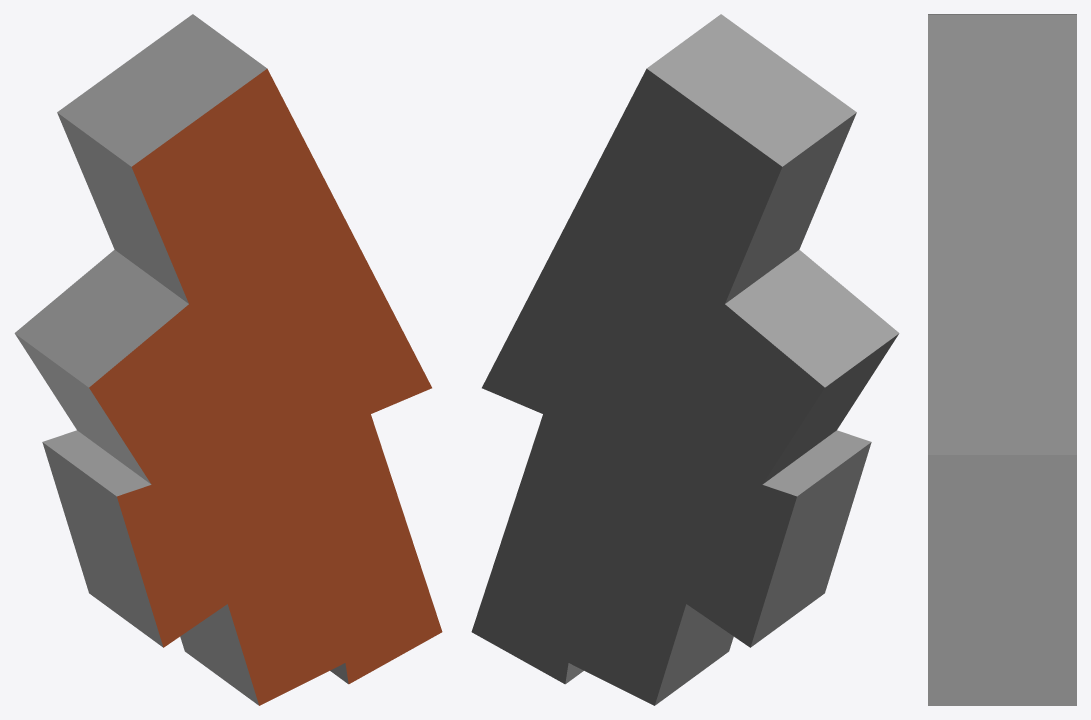
The model's file is construction_3528_assumed_A_Casa_h6m.obj.
The picture shows the model from 3 angles, left to right: view 1: azimuth 30°, elevation 25°; view 2: azimuth 150°, elevation 25°; view 3: azimuth 270°, elevation 25°; orthographic projection.
Visible parts, largest first — view 1: construction_3528_assumed_A_Casa; view 2: construction_3528_assumed_A_Casa; view 3: construction_3528_assumed_A_Casa.
Part boxes in pixels (<box>): construction_3528_assumed_A_Casa: <box>14,14,442,705</box>; construction_3528_assumed_A_Casa: <box>471,14,899,705</box>; construction_3528_assumed_A_Casa: <box>928,14,1076,705</box>.
Bounding box in the file's own units: 16.44 × 28.25 × 6.
